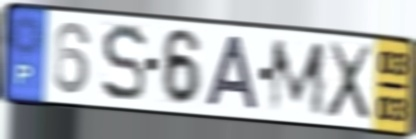6: (158, 26, 207, 109), (52, 20, 93, 98)
A: (204, 33, 261, 113)
M: (266, 39, 327, 118)
S: (100, 21, 149, 105)
X: (323, 40, 374, 124)
